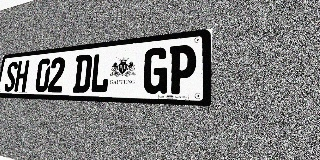0: (34, 58, 52, 92)
2: (48, 57, 66, 92)
D: (72, 54, 93, 93)
G: (142, 47, 169, 94)
H: (14, 60, 30, 92)
L: (89, 52, 111, 93)
P: (167, 44, 197, 94)
S: (3, 61, 18, 92)
